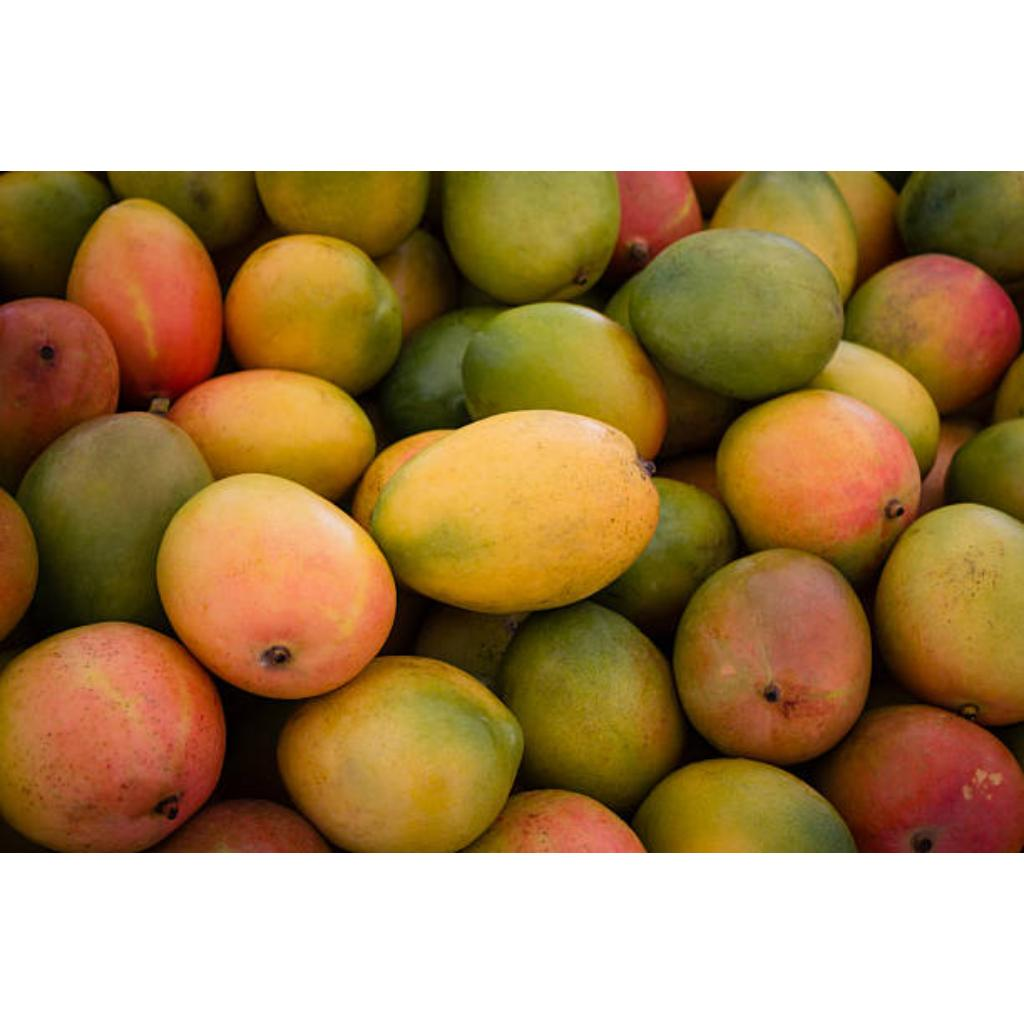mango: (370, 411, 658, 614), (156, 475, 396, 698), (0, 625, 226, 852), (278, 657, 524, 853), (16, 413, 214, 629), (674, 549, 872, 765), (496, 603, 684, 813), (716, 391, 920, 571), (630, 229, 842, 400), (66, 199, 222, 407), (462, 303, 668, 460), (874, 505, 1024, 715), (818, 705, 1024, 853), (844, 253, 1022, 413), (224, 235, 402, 394), (168, 369, 376, 500), (442, 171, 620, 304), (594, 477, 738, 638), (0, 299, 118, 490), (632, 759, 856, 853), (710, 171, 858, 302), (808, 341, 940, 476), (254, 171, 428, 257)
